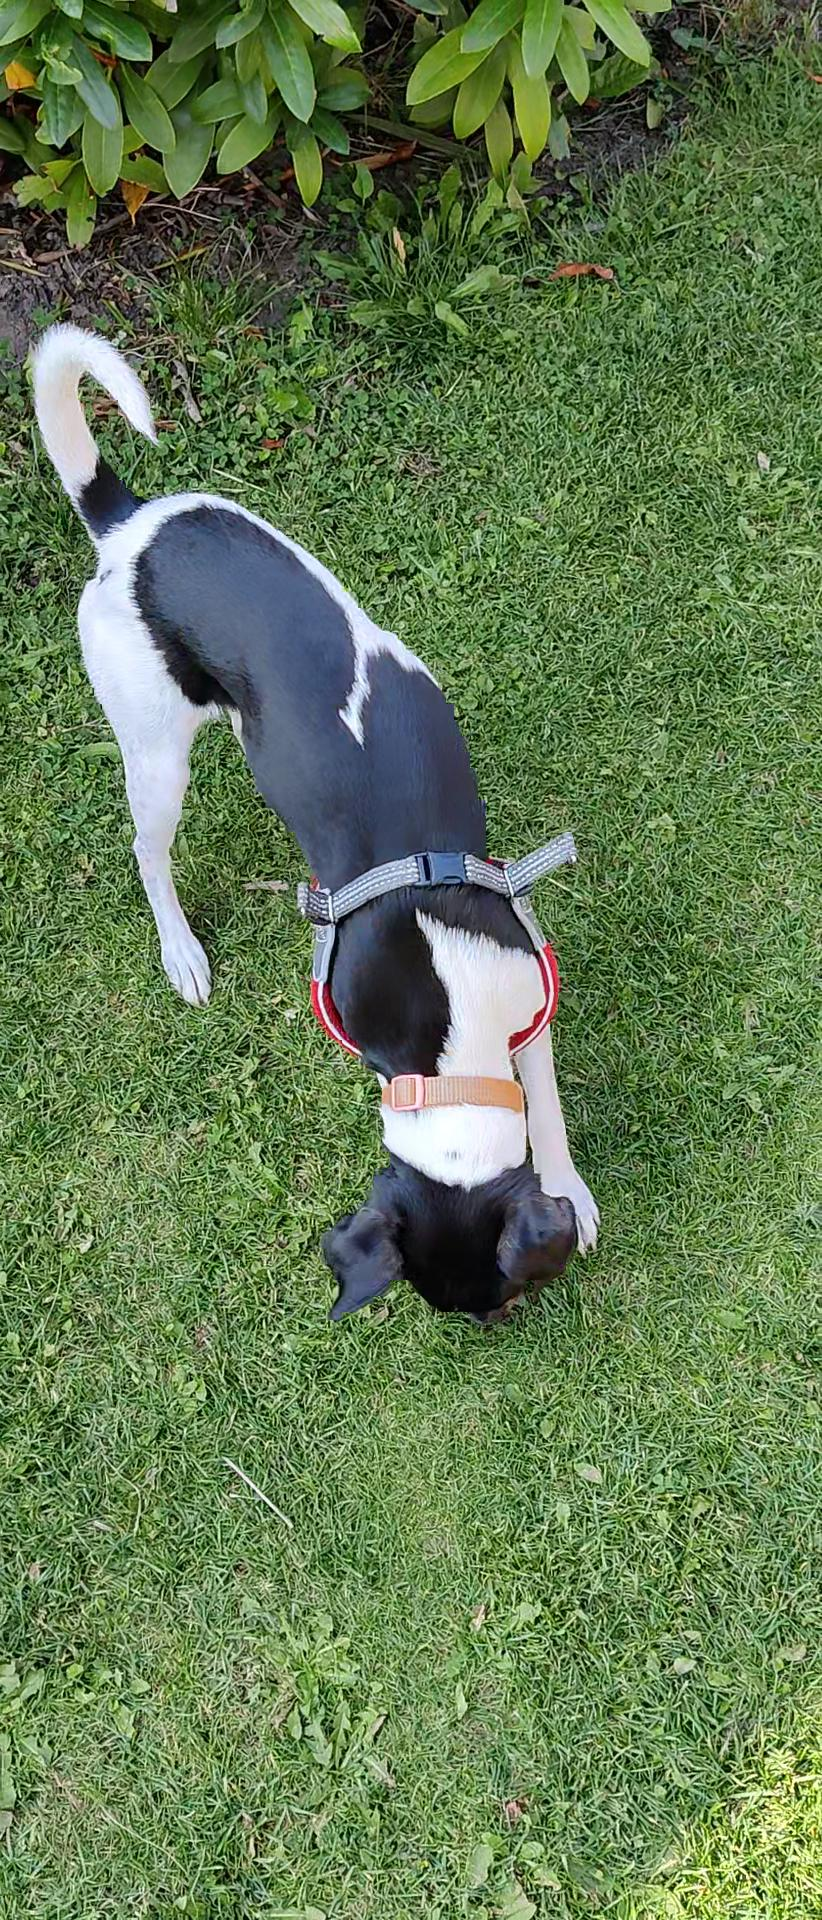Dog: (13, 302, 664, 1322)
